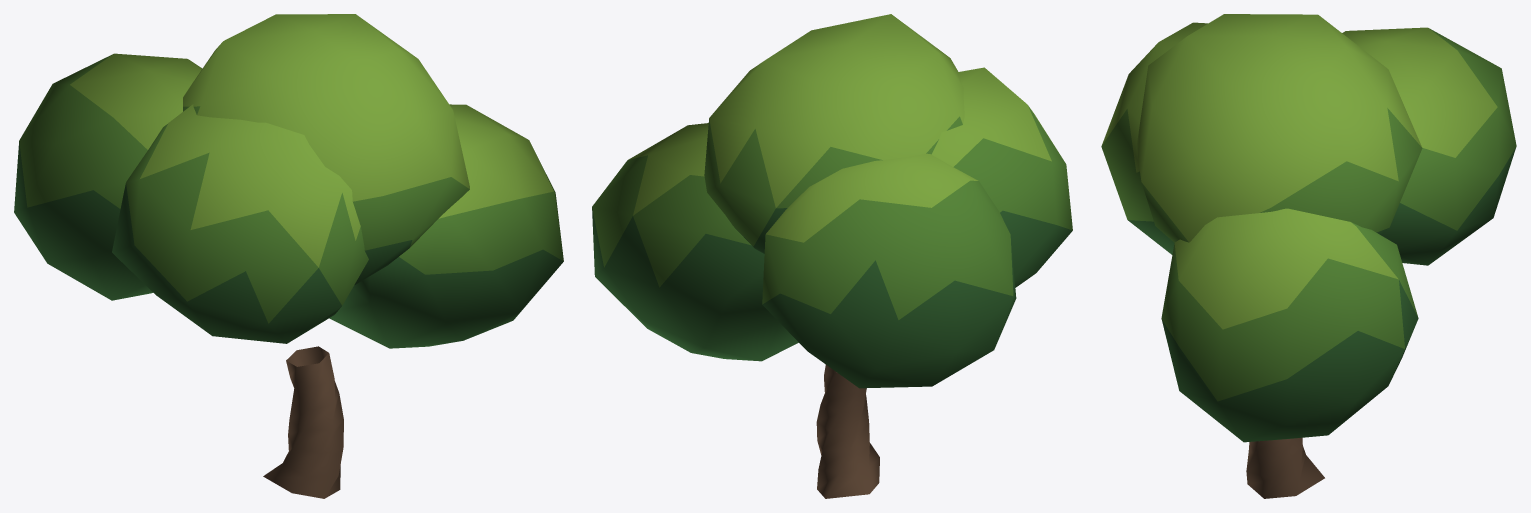
File: OakA_FAR.glb
The picture shows the model from 3 angles, left to right: view 1: azimuth 30°, elevation 25°; view 2: azimuth 150°, elevation 25°; view 3: azimuth 270°, elevation 25°; orthographic projection. The views are drawn at different scales.
Parts seen in each view (by area): view 1: OakA_FAR.leafLight, OakA_FAR.leafMid, OakA_FAR.leafDark, OakA_FAR.bark; view 2: OakA_FAR.leafLight, OakA_FAR.leafMid, OakA_FAR.leafDark, OakA_FAR.bark; view 3: OakA_FAR.leafLight, OakA_FAR.leafMid, OakA_FAR.leafDark, OakA_FAR.bark.
Part boxes in pixels (x1,y1,x2,y2): OakA_FAR.leafLight: [70, 14, 553, 267]; OakA_FAR.leafMid: [19, 54, 563, 323]; OakA_FAR.leafDark: [14, 141, 563, 348]; OakA_FAR.bark: [263, 346, 343, 498]; OakA_FAR.leafLight: [628, 14, 1058, 242]; OakA_FAR.leafMid: [592, 105, 1072, 319]; OakA_FAR.leafDark: [592, 208, 1072, 388]; OakA_FAR.bark: [816, 364, 879, 498]; OakA_FAR.leafLight: [1101, 14, 1497, 329]; OakA_FAR.leafMid: [1101, 28, 1516, 401]; OakA_FAR.leafDark: [1128, 147, 1516, 442]; OakA_FAR.bark: [1246, 437, 1324, 498].
Bounding box in the file's own units: 22.74 × 20.98 × 17.46.
